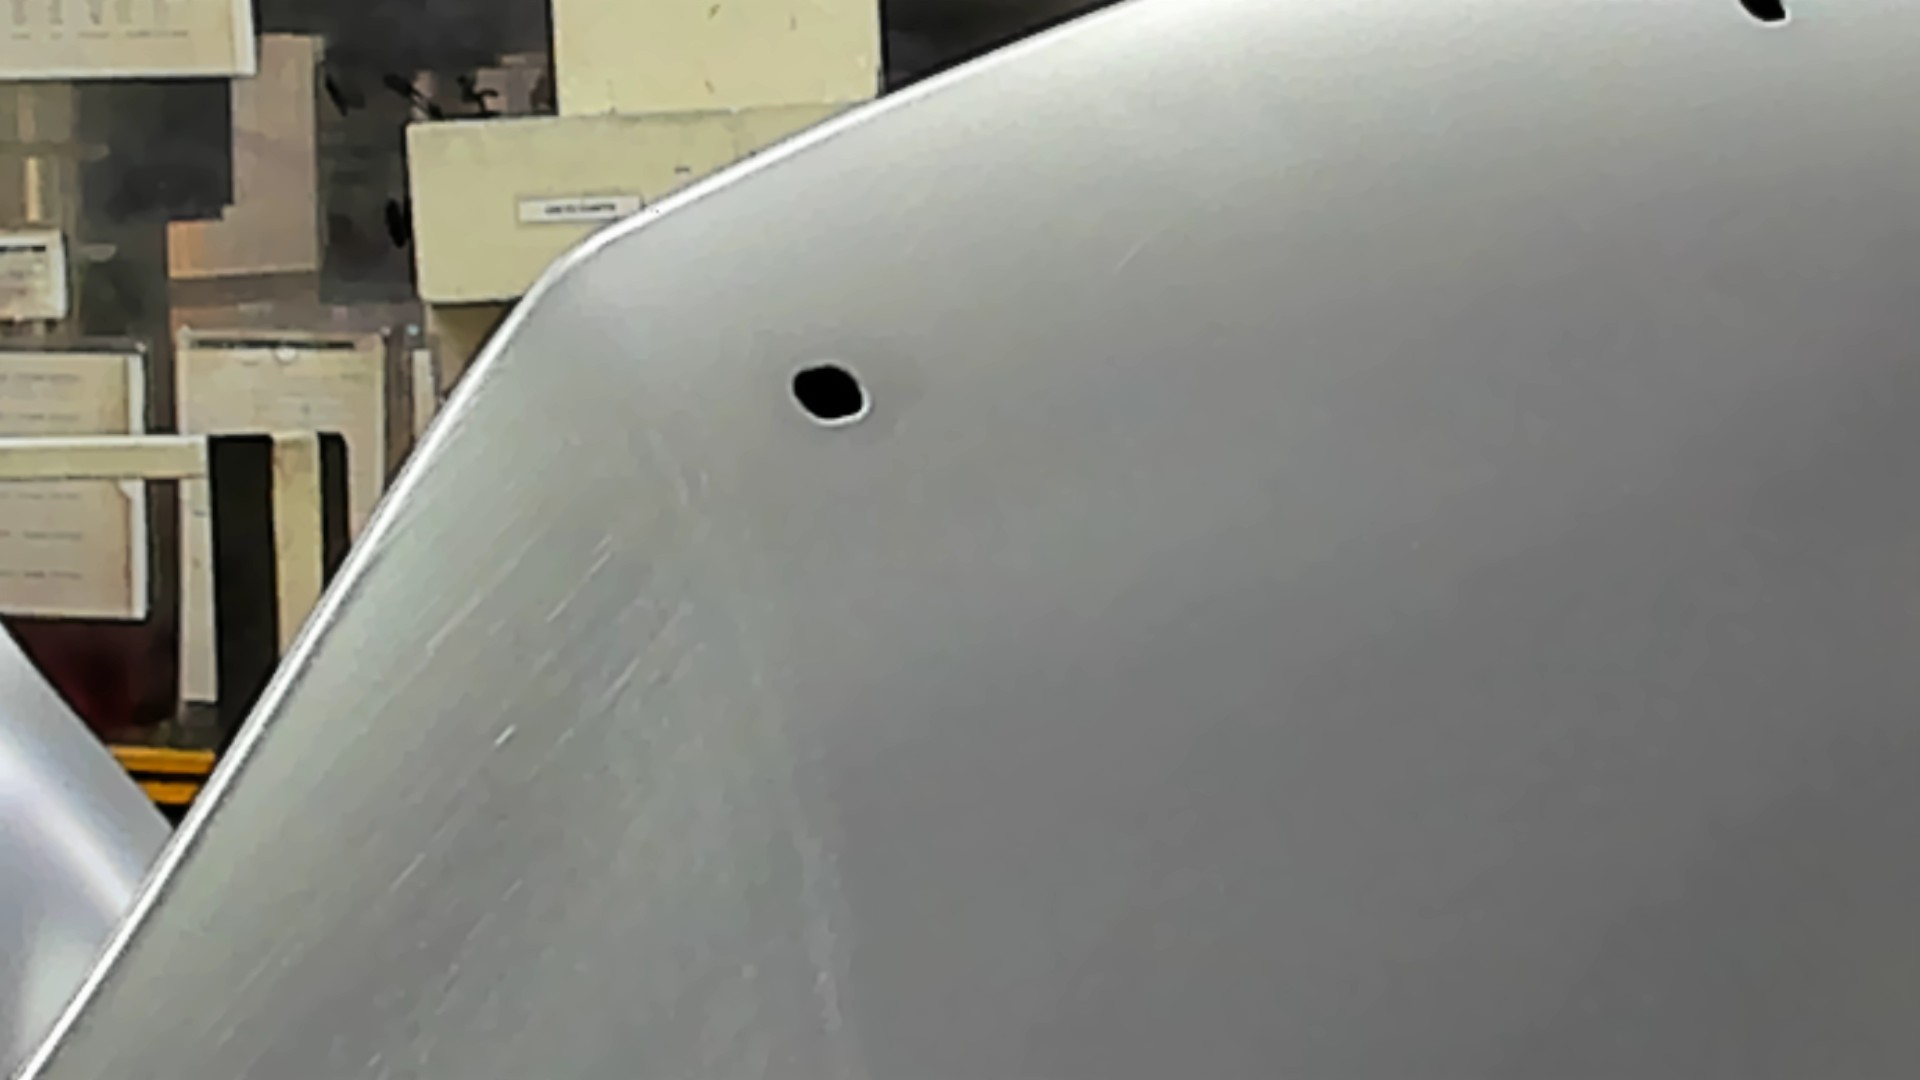amorfo: (785, 359, 876, 427), (1729, 1, 1796, 28)
capo: (997, 73, 1915, 1080)
